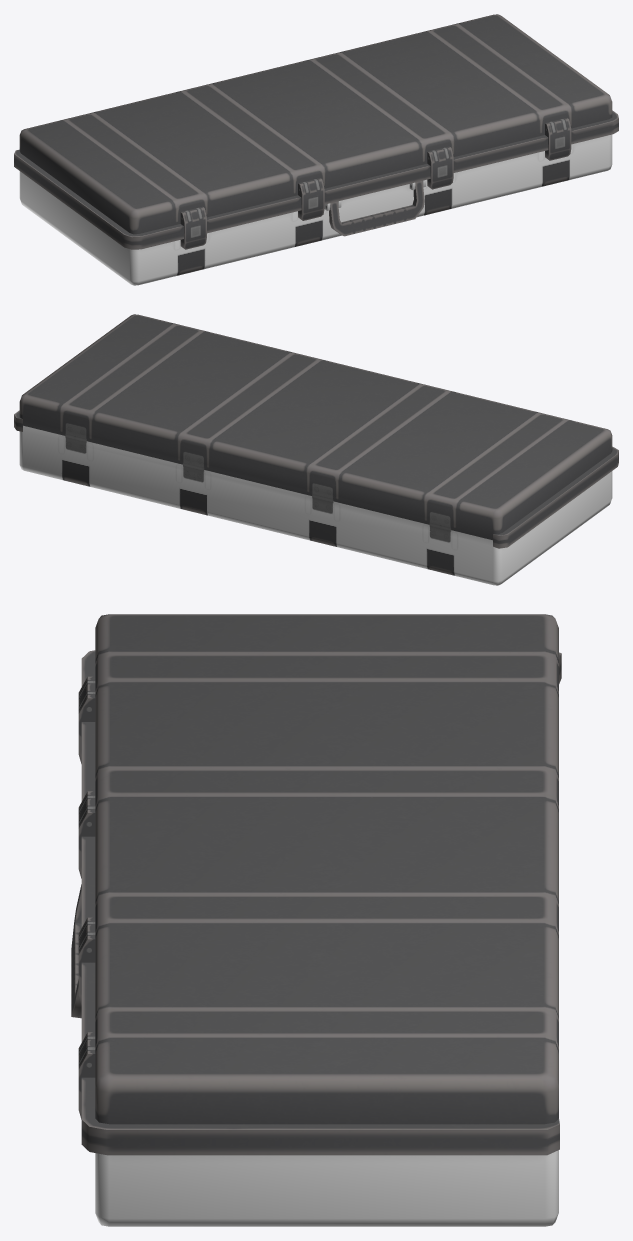
Rendered from WeaponStorageCase02_1.FBX.
The picture shows the model from 3 angles, top to bottom: view 1: azimuth 30°, elevation 25°; view 2: azimuth 150°, elevation 25°; view 3: azimuth 270°, elevation 25°; orthographic projection. The views are drawn at different scales.
Parts seen in each view (by area): view 1: Cover1, WeaponCase02_1; view 2: Cover1, WeaponCase02_1; view 3: Cover1, WeaponCase02_1.
Boxes of the visible parts, x1,y1,x2,y2 form: Cover1: (14, 14, 618, 249); WeaponCase02_1: (14, 125, 618, 285); Cover1: (14, 314, 618, 542); WeaponCase02_1: (14, 421, 618, 585); Cover1: (78, 614, 561, 1142); WeaponCase02_1: (71, 666, 561, 1226).
Size of what is drawn, in the model's own units: 1.23 by 0.18 by 0.5284.
